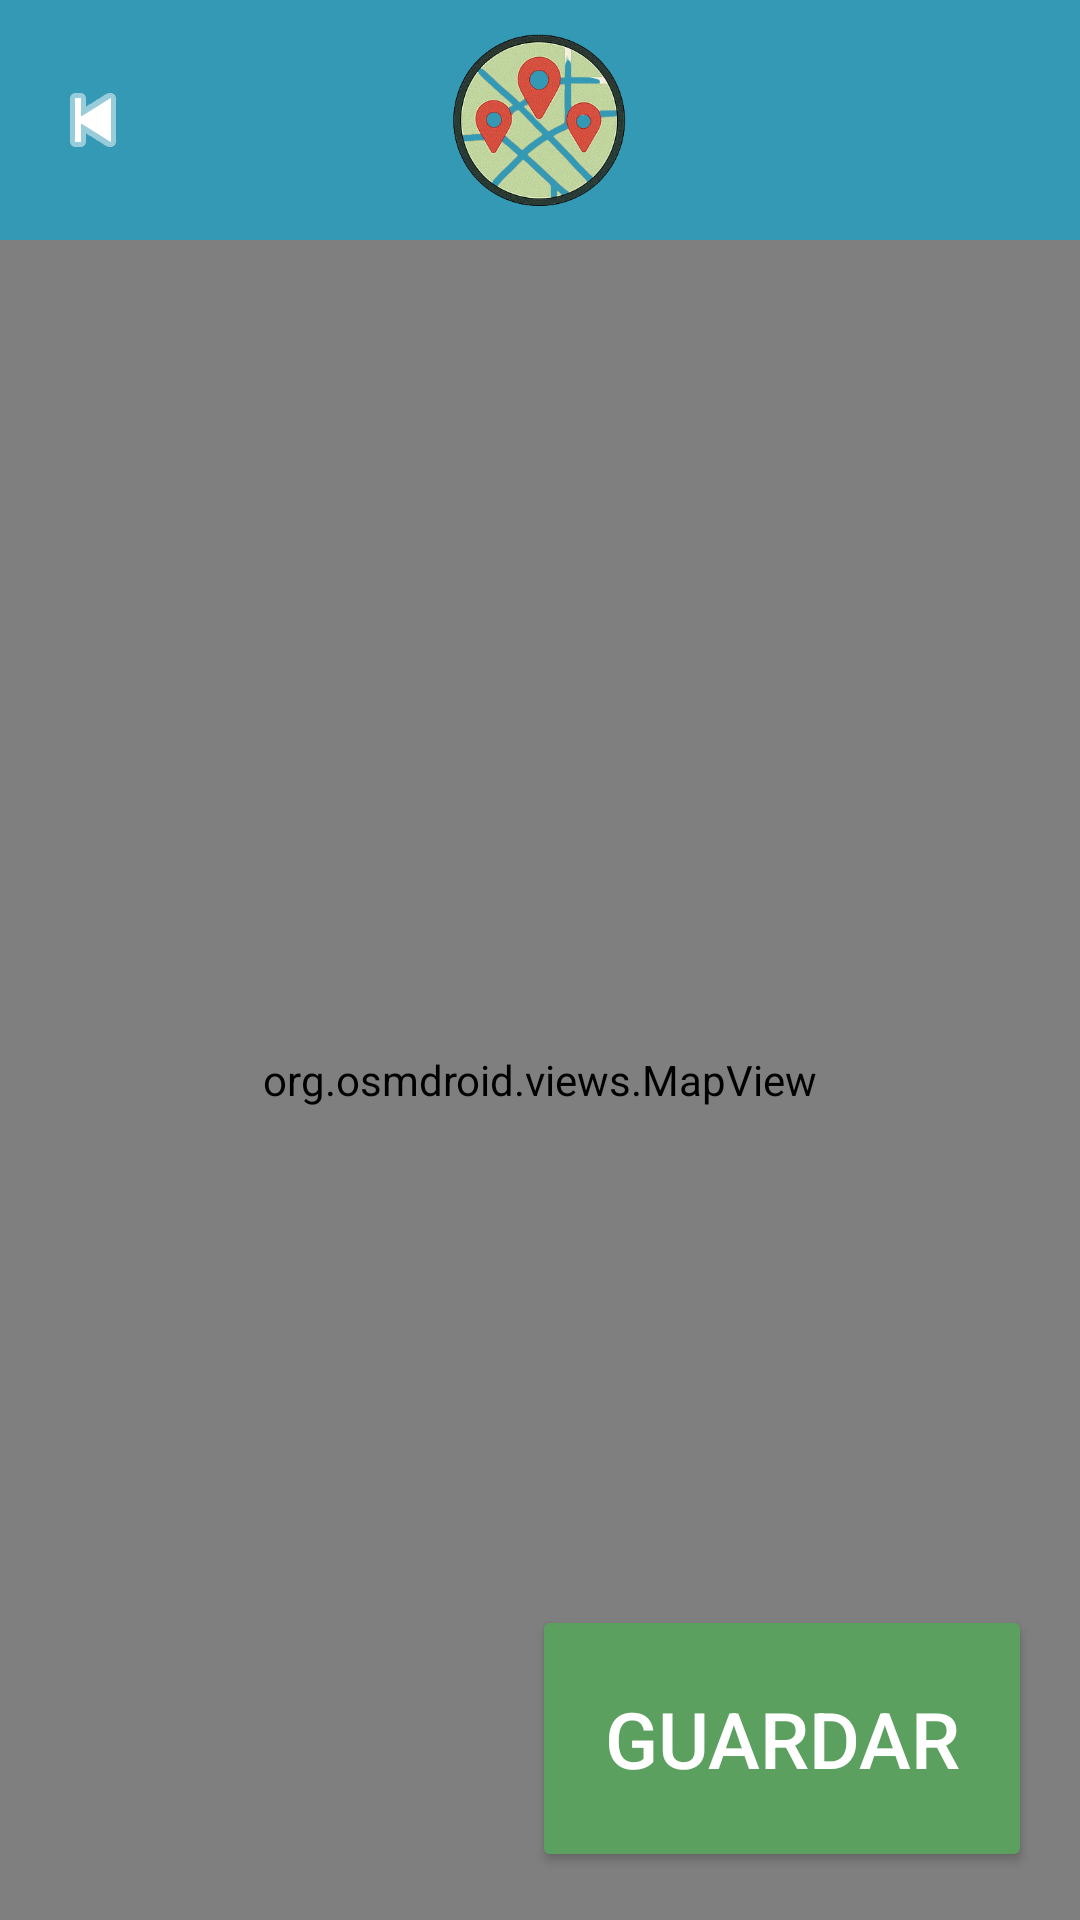

Locate icon controls on the screen. Image size 1080 × 1920, boxes as BBox(x1, y1, x2, y2).
Volver: BBox(70, 93, 116, 147)
